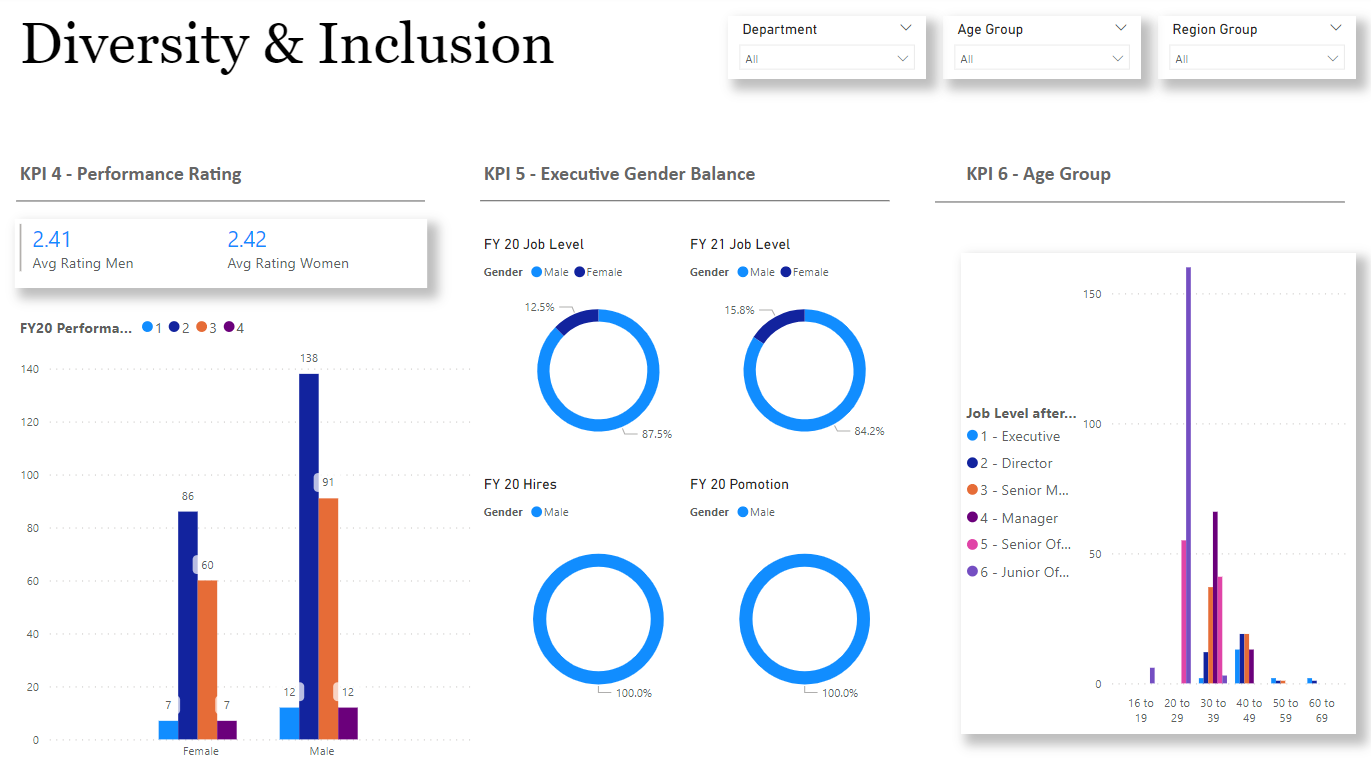

Layout of this report page (visuals, bound fields, positions):
{"tool":"powerbi","page":{"name":"Diversity & Inclusion Analysis Dashboard II","canvas":[1280,720],"ordinal":1},"visuals":[{"type":"lineClusteredColumnComboChart","fields":{"Category":["Pharma Group AG.Gender"],"Y":["CountNonNull(Pharma Group AG.Employee ID)"],"Series":["Pharma Group AG.FY20 Performance Rating"]},"box":[16,288,432,432],"z":0},{"type":"multiRowCard","fields":{"Values":["Pharma Group AG.Avg performamnce (men)","Pharma Group AG.Avg performamnce (women)"]},"box":[16,208,384,64],"z":1000},{"type":"basicShape","box":[8,176,400,32],"z":2000},{"type":"textbox","box":[16.5,149.6,367.8,59],"z":3000},{"type":"donutChart","title":"FY 20 Job Level","fields":{"Category":["Pharma Group AG.Gender"],"Y":["CountNonNull(Pharma Group AG.Employee ID)"]},"box":[448,224,224,208],"z":4000},{"type":"donutChart","title":"FY 21 Job Level","fields":{"Category":["Pharma Group AG.Gender"],"Y":["CountNonNull(Pharma Group AG.Employee ID)"]},"box":[640,224,224,208],"z":5000},{"type":"donutChart","title":"FY 20 Hires","fields":{"Category":["Pharma Group AG.Gender"],"Y":["CountNonNull(Pharma Group AG.Employee ID)"]},"box":[448,448,224,224],"z":6000},{"type":"donutChart","title":"FY 20 Pomotion","fields":{"Category":["Pharma Group AG.Gender"],"Y":["CountNonNull(Pharma Group AG.Employee ID)"]},"box":[640,448,224,224],"z":7000},{"type":"clusteredColumnChart","fields":{"Category":["Pharma Group AG.Age group"],"Y":["CountNonNull(Pharma Group AG.Employee ID)"],"Series":["Pharma Group AG.Job Level after FY21 promotions"]},"box":[896,240,368,448],"z":8000},{"type":"textbox","box":[896.1,149.6,227.8,42.5],"z":9000},{"type":"textbox","box":[447.3,149.6,415.8,42.5],"z":10000},{"type":"basicShape","box":[439.1,175.6,400.7,31.6],"z":11000},{"type":"basicShape","box":[863.1,177,400.7,31.6],"z":12000},{"type":"textbox","box":[16.5,9.6,584.6,94.7],"z":13000},{"type":"slicer","fields":{"Values":["Pharma Group AG.Broad region group: nationality 1"]},"box":[1080.2,19.8,183.7,58.1],"z":14000},{"type":"slicer","fields":{"Values":["Pharma Group AG.Age group"]},"box":[880.2,19.8,183.7,58.1],"z":15000},{"type":"slicer","fields":{"Values":["Pharma Group AG.Last Department in FY20"]},"box":[680.2,19.8,183.7,58.1],"z":16000}]}

Visuals, with their boxes in screenshot pixels (x1, y1, x2, y2), scaled from the page's 1280x720 canvas onto the 1371x763 screenshot:
lineClusteredColumnComboChart - Pharma Group AG.Gender x CountNonNull(Pharma Group AG.Employee ID): (left=17, top=305, right=480, bottom=762)
multiRowCard - Pharma Group AG.Avg performamnce (men) x Pharma Group AG.Avg performamnce (women): (left=17, top=220, right=428, bottom=288)
basicShape: (left=9, top=187, right=437, bottom=220)
textbox: (left=18, top=159, right=412, bottom=221)
"FY 20 Job Level" donutChart: (left=480, top=237, right=720, bottom=458)
"FY 21 Job Level" donutChart: (left=686, top=237, right=925, bottom=458)
"FY 20 Hires" donutChart: (left=480, top=475, right=720, bottom=712)
"FY 20 Pomotion" donutChart: (left=686, top=475, right=925, bottom=712)
clusteredColumnChart - Pharma Group AG.Age group x CountNonNull(Pharma Group AG.Employee ID): (left=960, top=254, right=1354, bottom=729)
textbox: (left=960, top=159, right=1204, bottom=204)
textbox: (left=479, top=159, right=924, bottom=204)
basicShape: (left=470, top=186, right=900, bottom=220)
basicShape: (left=924, top=188, right=1354, bottom=221)
textbox: (left=18, top=10, right=644, bottom=111)
slicer - Pharma Group AG.Broad region group: nationality 1: (left=1157, top=21, right=1354, bottom=83)
slicer - Pharma Group AG.Age group: (left=943, top=21, right=1140, bottom=83)
slicer - Pharma Group AG.Last Department in FY20: (left=729, top=21, right=925, bottom=83)
